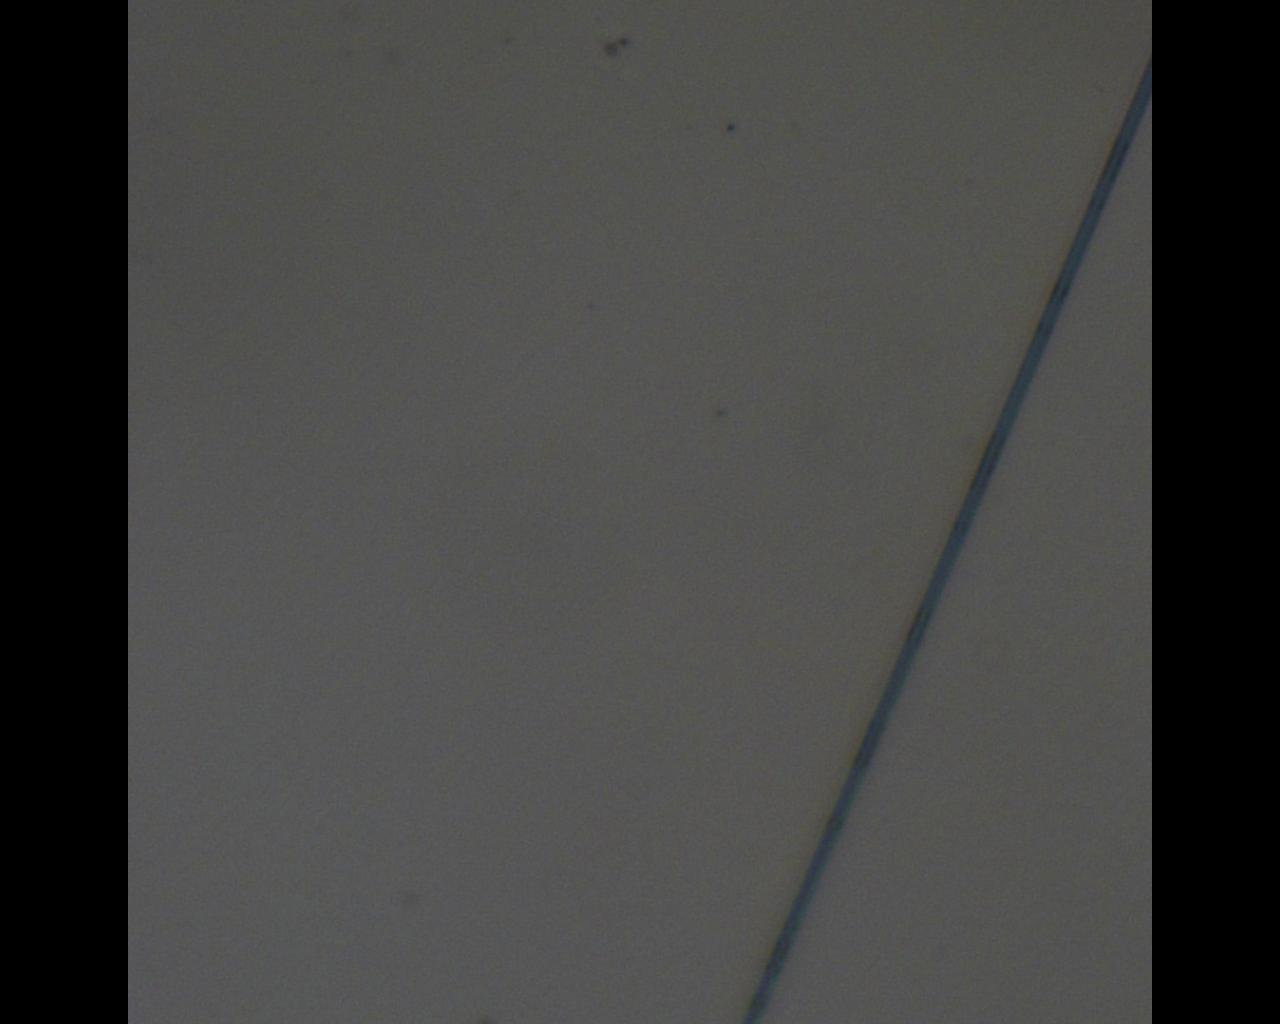fiber: (0, 183, 740, 326), (832, 287, 1280, 360)
